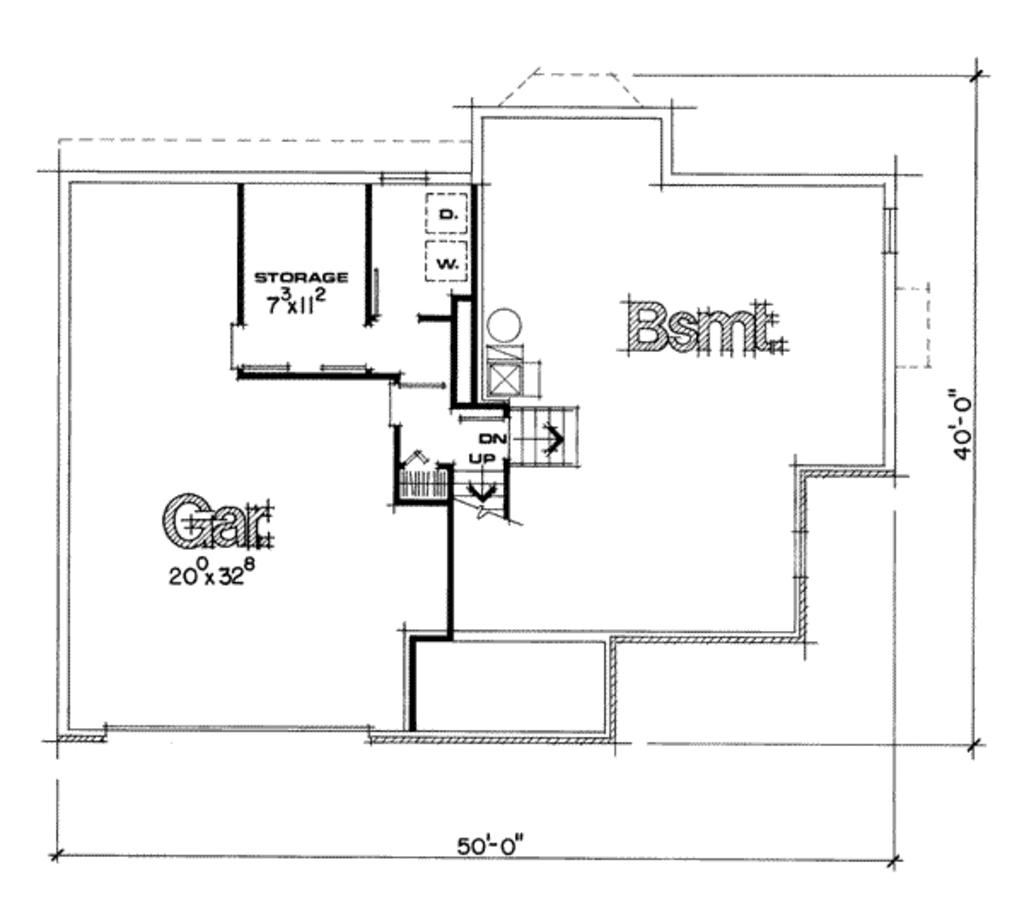stairs: (454, 404, 607, 535)
